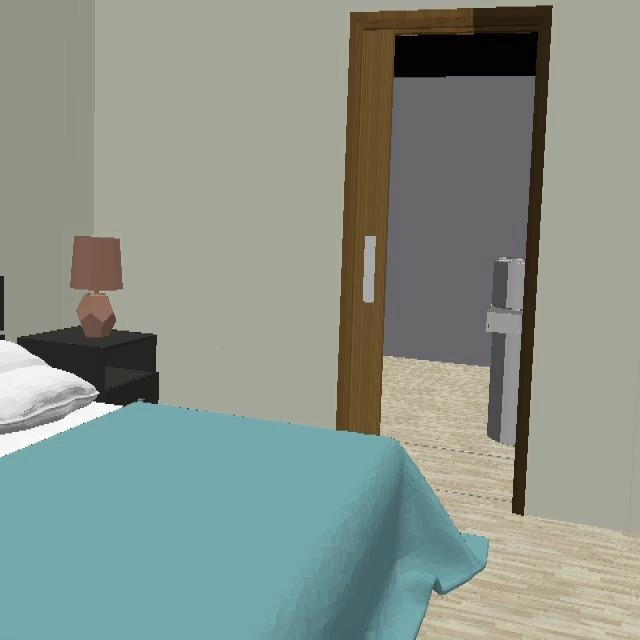bed: (0, 341, 489, 638)
lamp: (70, 237, 122, 338)
nighttable: (18, 325, 158, 404)
